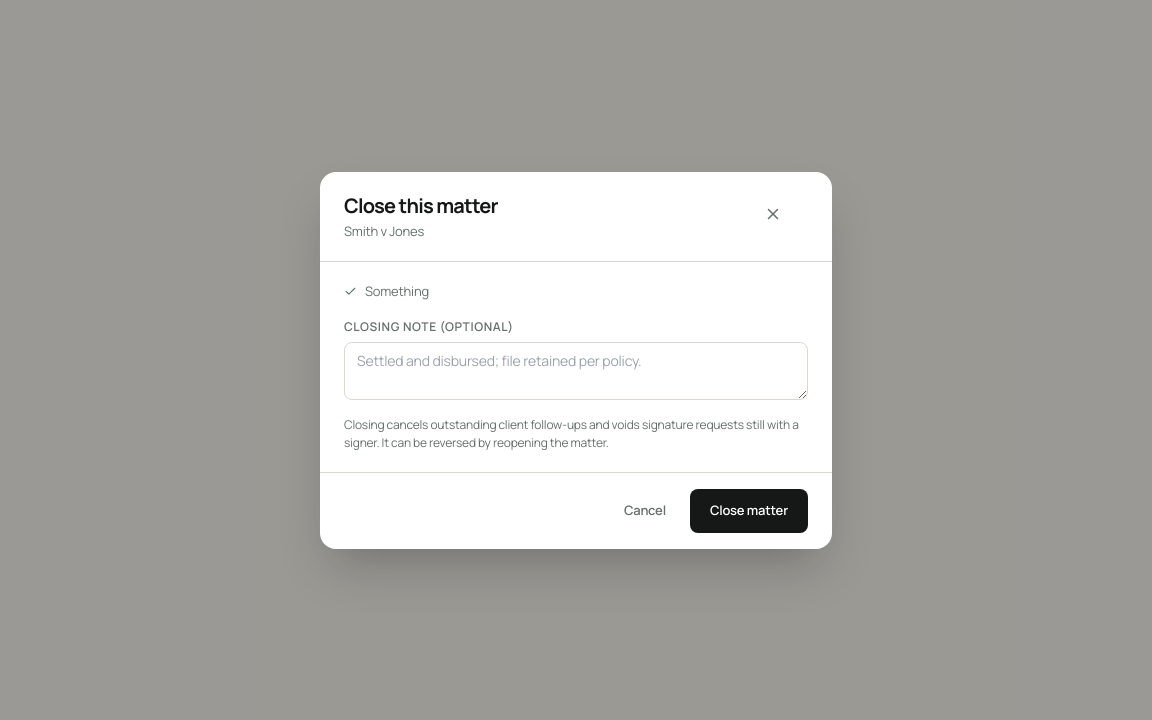
Test: shows the server refusal rather than pretending the matter closed
Click the button "Close matter": point(749, 510) left=690, top=488, right=808, bottom=532
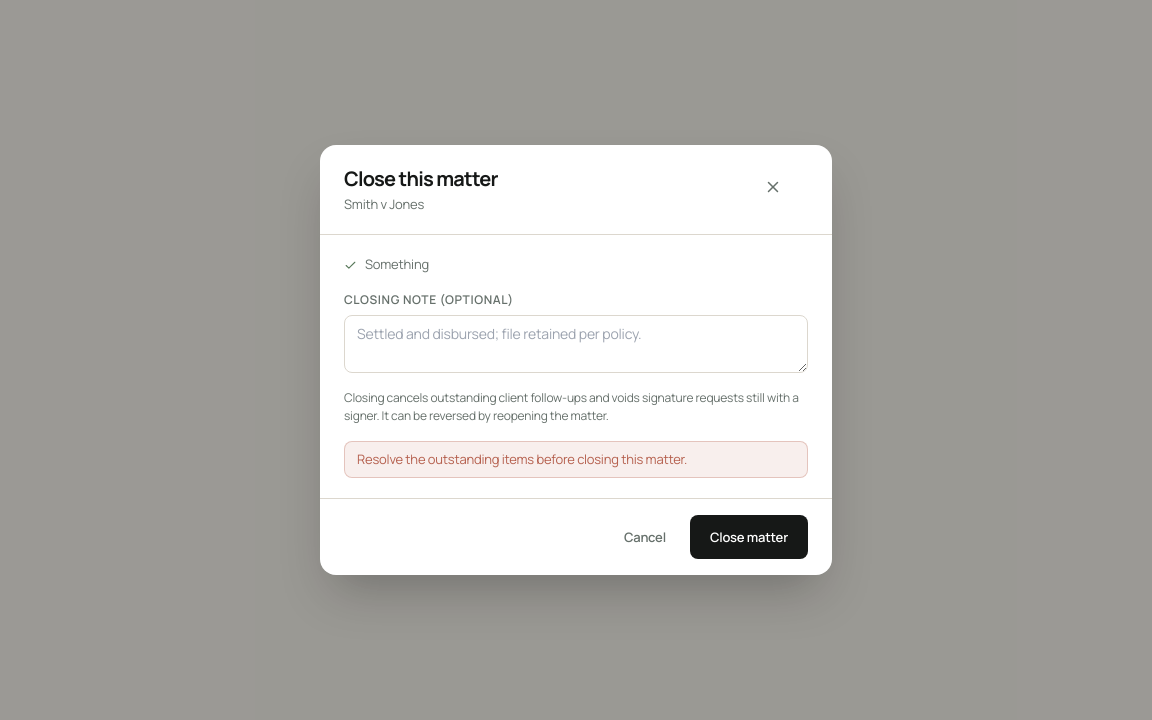
expect the message shows "Resolve the outstanding items": met, box left=357, top=450, right=687, bottom=468
